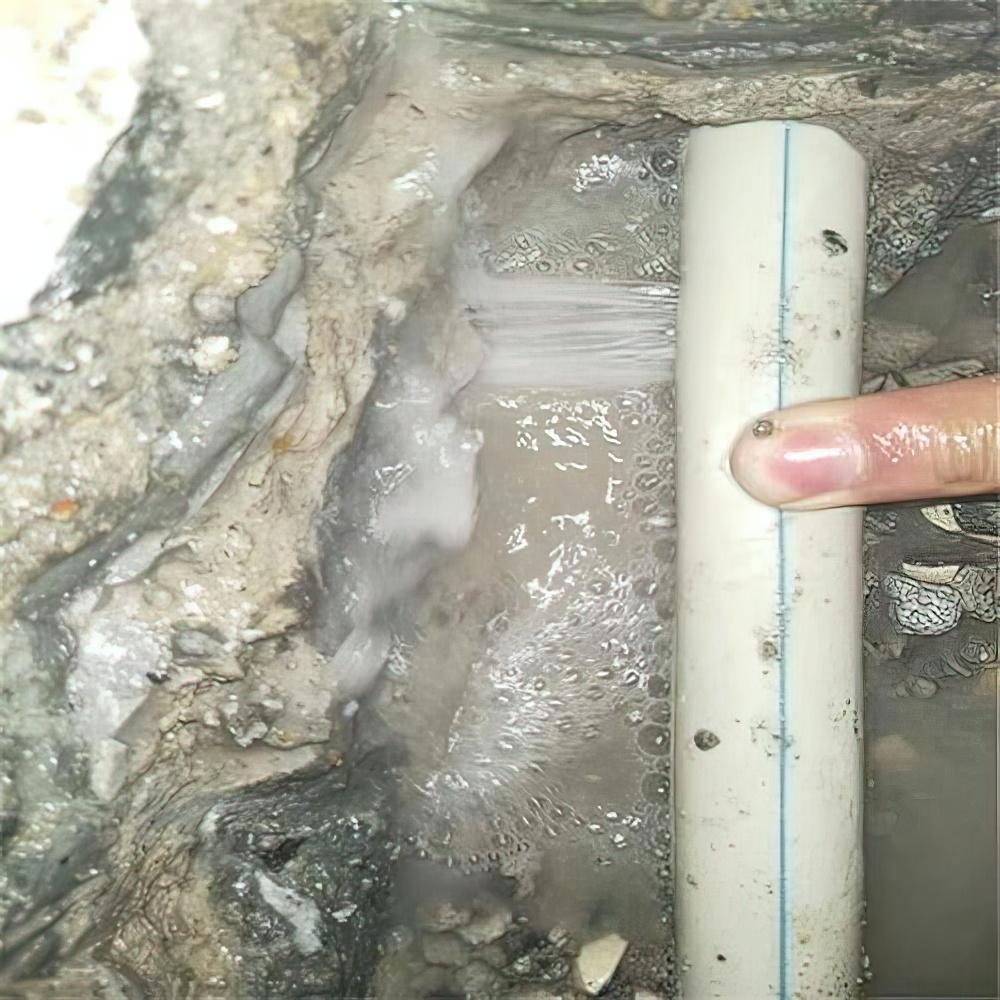pipe burst: (435, 270, 695, 395)
water accumulation: (362, 158, 678, 960), (863, 680, 1000, 1000), (863, 216, 1000, 390)
